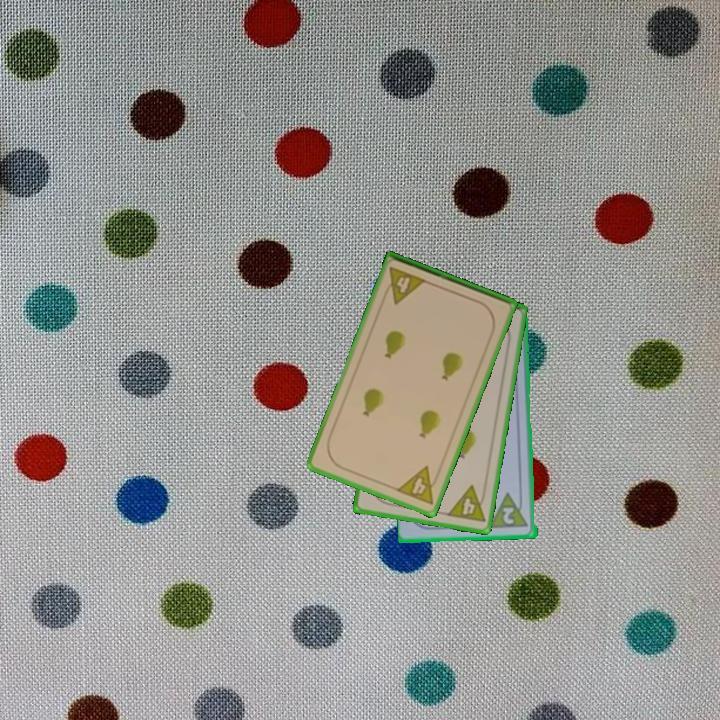2p: (488, 490, 532, 531)
4p: (393, 463, 444, 508), (379, 263, 429, 307), (443, 482, 489, 526)
